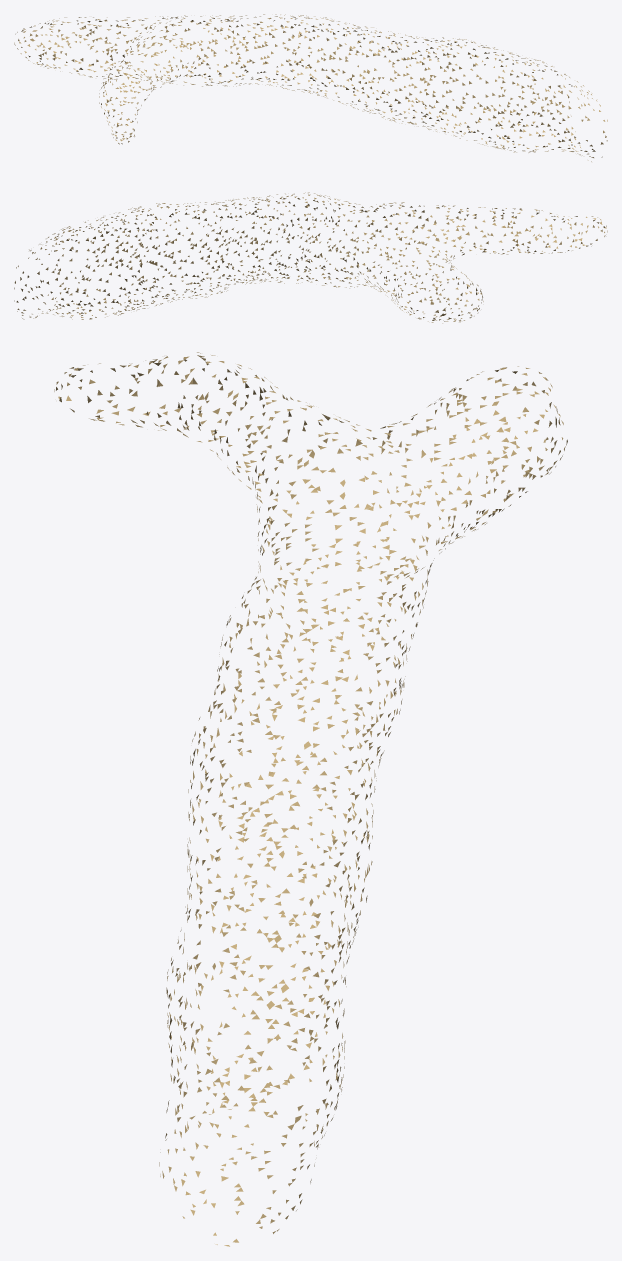
File: morph_007.glb
The picture shows the model from 3 angles, top to bottom: view 1: azimuth 30°, elevation 25°; view 2: azimuth 150°, elevation 25°; view 3: azimuth 270°, elevation 25°; orthographic projection. The views are drawn at different scales.
Size of the model in its own units: 117 by 46.7 by 50.47.
